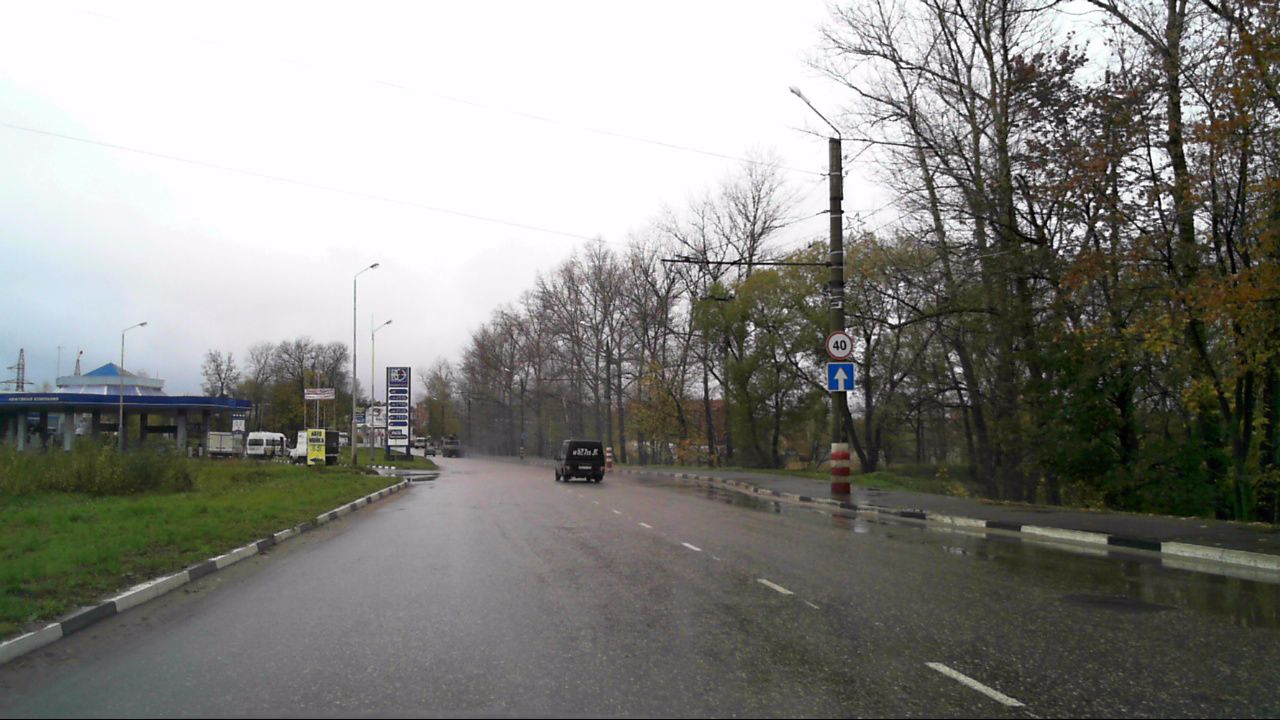speed_warning_40: (825, 331, 856, 361)
